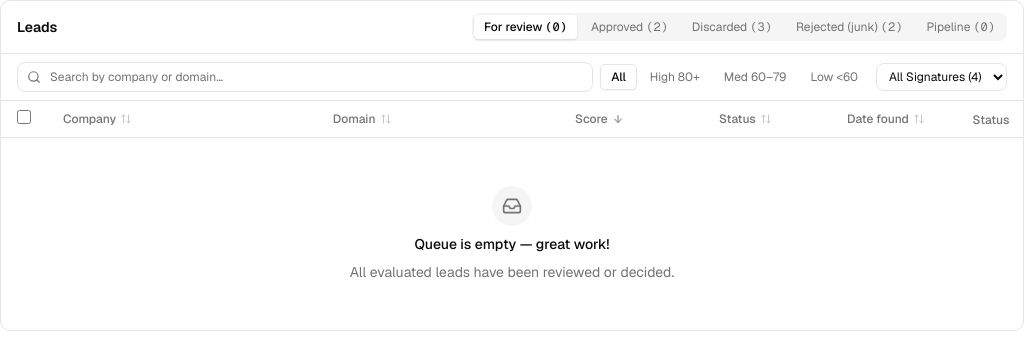
Test case: Pipeline tab › shows empty state when no rawCandidates
Click the tab "Pipeline (0)" at (961, 27), box top-left (916, 15), bottom-right (1005, 39)
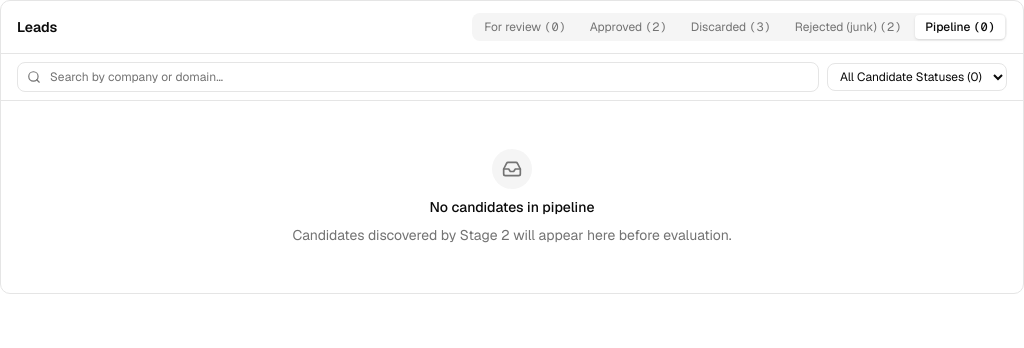
Check: the text "No candidates in pipeline" is shown, box top-left (430, 197), bottom-right (594, 217)
